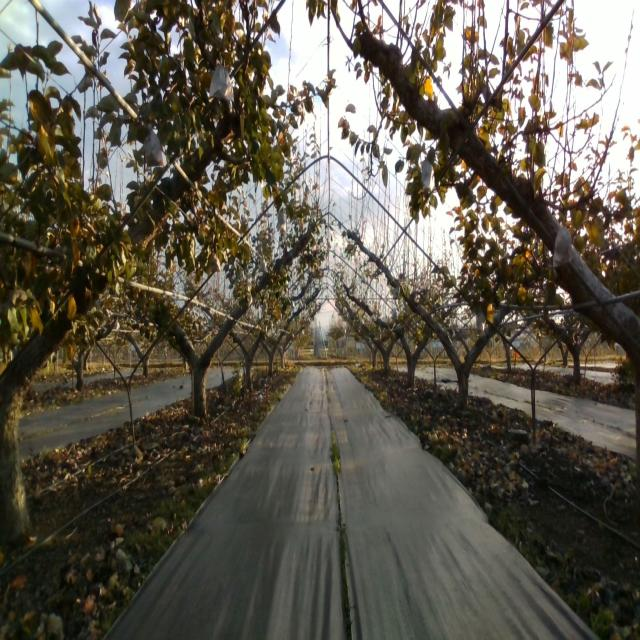pearbags: (210, 55, 234, 102), (143, 122, 163, 168), (552, 224, 572, 268), (422, 156, 436, 193), (207, 248, 221, 272), (277, 208, 288, 232), (476, 312, 486, 334)
